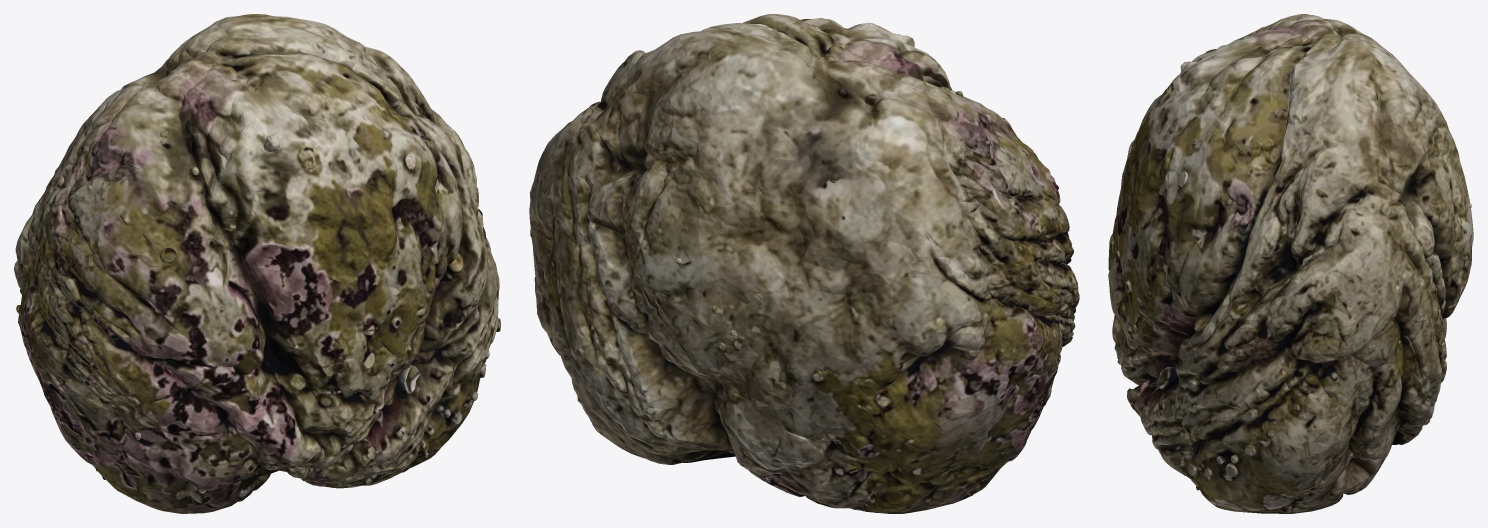
File: rock.glb
The picture shows the model from 3 angles, left to right: view 1: azimuth 30°, elevation 25°; view 2: azimuth 150°, elevation 25°; view 3: azimuth 270°, elevation 25°; orthographic projection. The views are drawn at different scales.
Parts seen in each view (by area): view 1: geometry_0; view 2: geometry_0; view 3: geometry_0.
Part boxes in pixels (x1,y1,x2,y2): geometry_0: (14,14,500,513); geometry_0: (529,14,1079,513); geometry_0: (1108,14,1473,513).
Size of the model in its own units: 1 by 0.8933 by 0.7086.
Materials: 1 (1 with a texture image).
